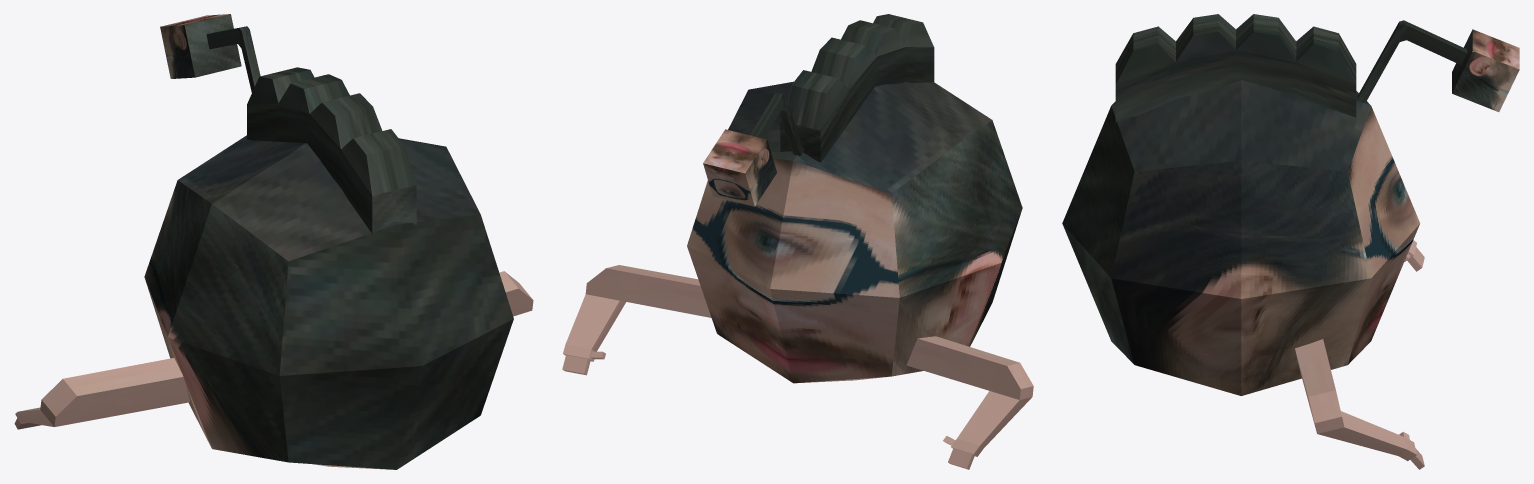
File: Beholdurmut rev (1).fbx
3 renders of one model, left to right at view 1: azimuth 30°, elevation 25°; view 2: azimuth 150°, elevation 25°; view 3: azimuth 270°, elevation 25°, orthographic. The views are drawn at different scales.
Visible parts, largest first — view 1: Base; view 2: Base; view 3: Base.
Part boxes in pixels (left/top/right/bottom): Base: left=14, top=14, right=533, bottom=469; Base: left=562, top=14, right=1033, bottom=469; Base: left=1062, top=14, right=1519, bottom=469.
Size of the model in its own units: 249 by 188 by 215.
5 materials, 5 textured.
